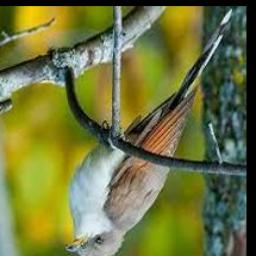Cuckoo: (67, 6, 236, 256)
